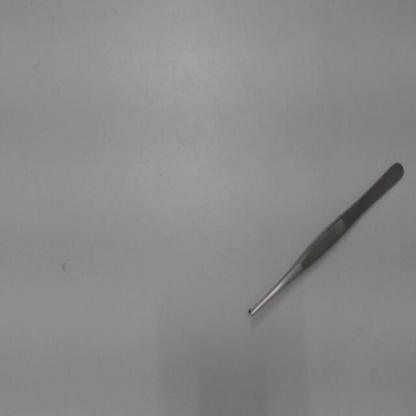Gillies Toothed Dissector: (242, 152, 408, 330)
